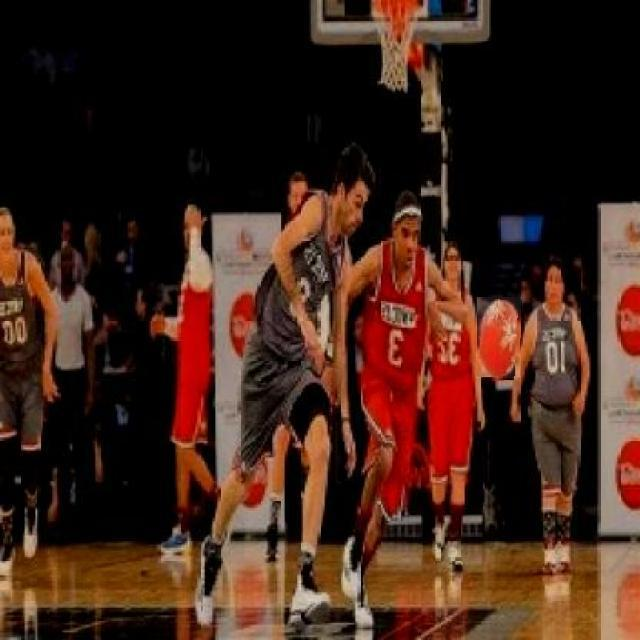Ball: (476, 298, 521, 380)
